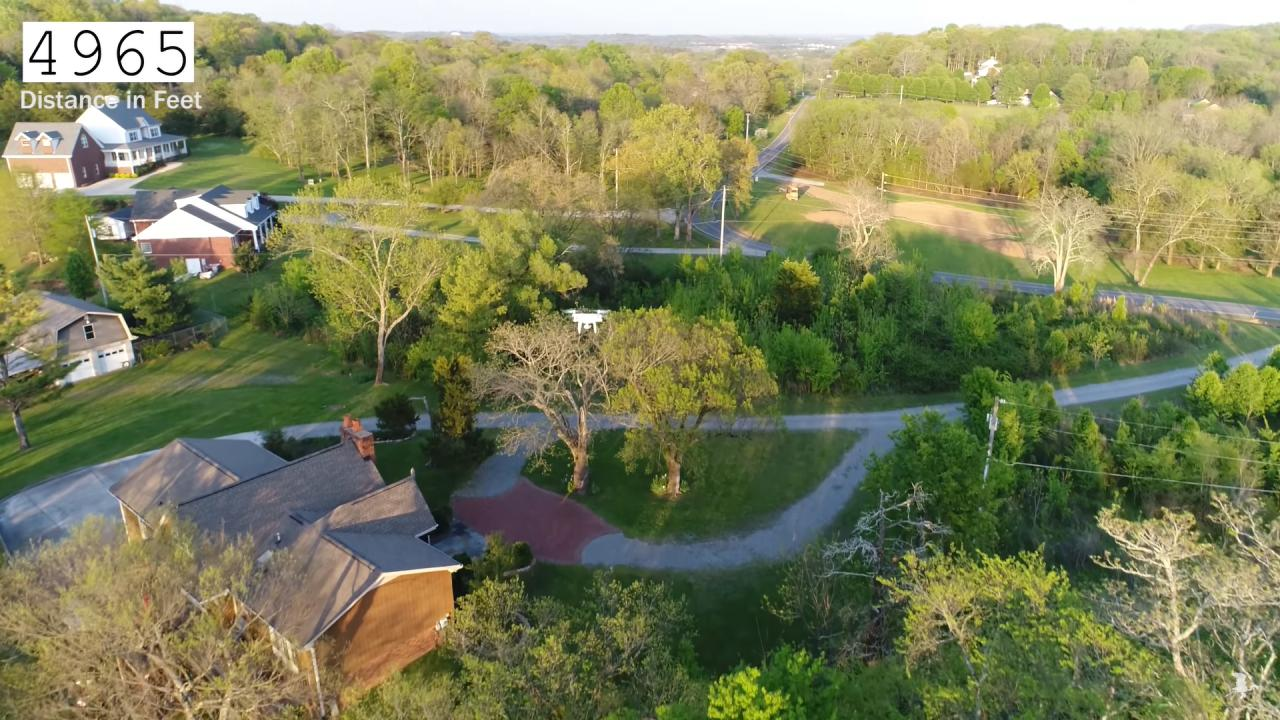Drone: (558, 297, 616, 340)
